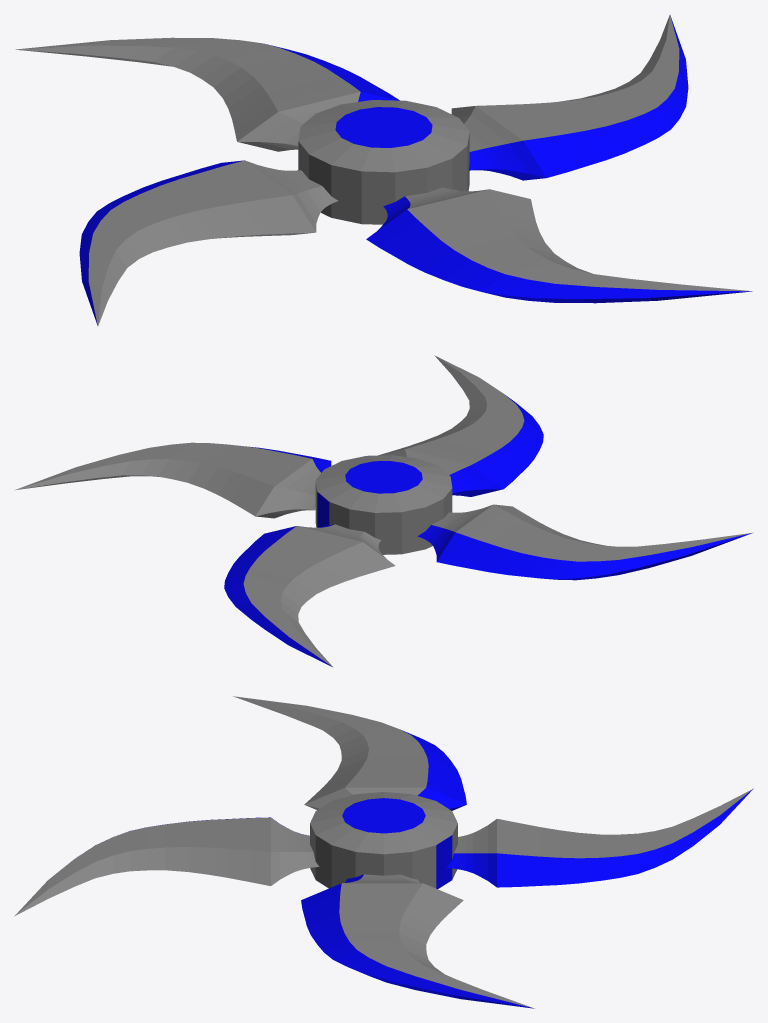
The model's file is Beyblade_Upgraded_Blade_water.fbx.
3 views of the same model, one above another, from view 1: azimuth 30°, elevation 25°; view 2: azimuth 150°, elevation 25°; view 3: azimuth 270°, elevation 25° (orthographic). The views are drawn at different scales.
Visible parts, largest first — view 1: Circle.001; view 2: Circle.001; view 3: Circle.001.
Boxes of the visible parts, x1,y1,x2,y2 form: Circle.001: [15, 15, 752, 325]; Circle.001: [14, 355, 753, 667]; Circle.001: [14, 696, 753, 1008].
Size of the model in its own units: 394 by 35.77 by 394.
1 material, 1 textured.
